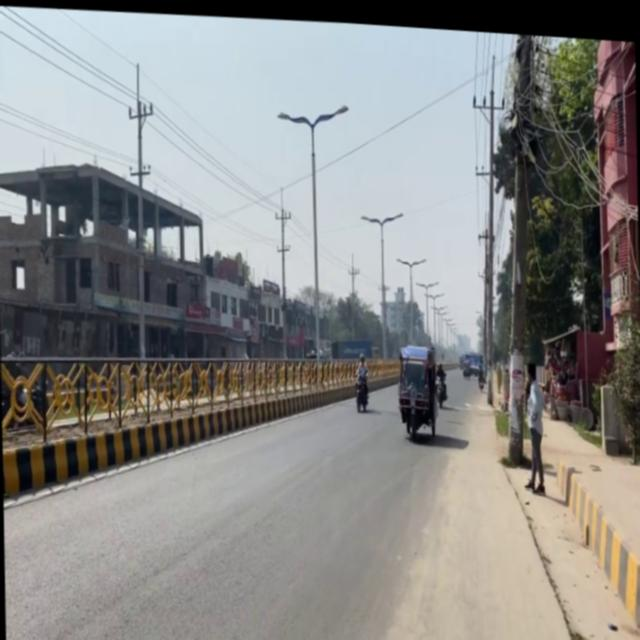Bench: (395, 337, 440, 436)
Construction-barrier: (498, 449, 586, 640)
Fallen-tree: (434, 366, 447, 401), (462, 354, 471, 372), (476, 363, 484, 382)
Garbage-bin: (522, 353, 546, 486), (353, 347, 369, 407)
Pole: (2, 333, 267, 511)
Pothole: (492, 378, 640, 640)
Traffic-cone: (460, 345, 482, 373)
